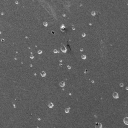corrosion: (111, 90, 119, 99), (59, 44, 67, 53), (93, 121, 102, 128), (58, 80, 66, 87), (60, 24, 66, 33), (63, 107, 71, 113), (123, 116, 128, 125), (36, 49, 43, 55), (39, 71, 46, 77), (42, 21, 49, 27), (47, 102, 54, 108), (80, 31, 86, 38), (89, 78, 96, 84), (58, 59, 63, 67), (29, 54, 35, 60), (80, 54, 86, 60), (66, 64, 72, 70), (118, 82, 124, 88), (12, 102, 17, 109), (90, 11, 96, 16), (61, 12, 66, 18), (87, 22, 93, 27), (53, 49, 58, 54), (71, 26, 76, 31), (14, 1, 20, 5), (1, 37, 5, 43), (1, 11, 4, 16), (25, 36, 27, 39)
